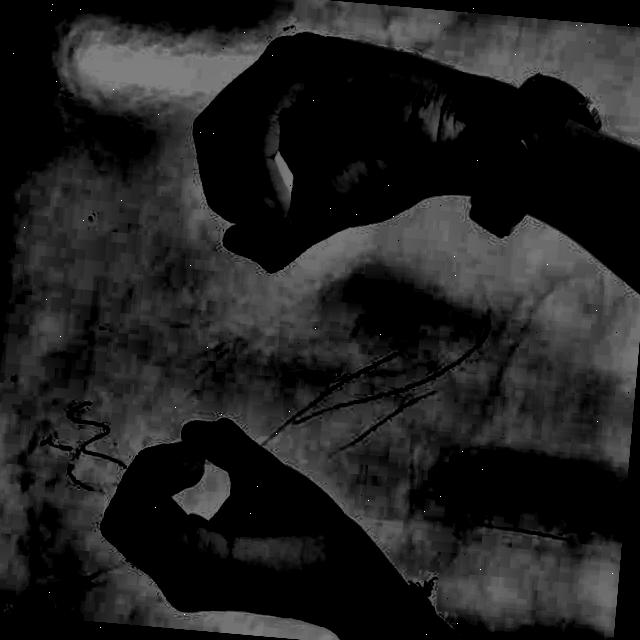Bisharga: (74, 0, 506, 640)
